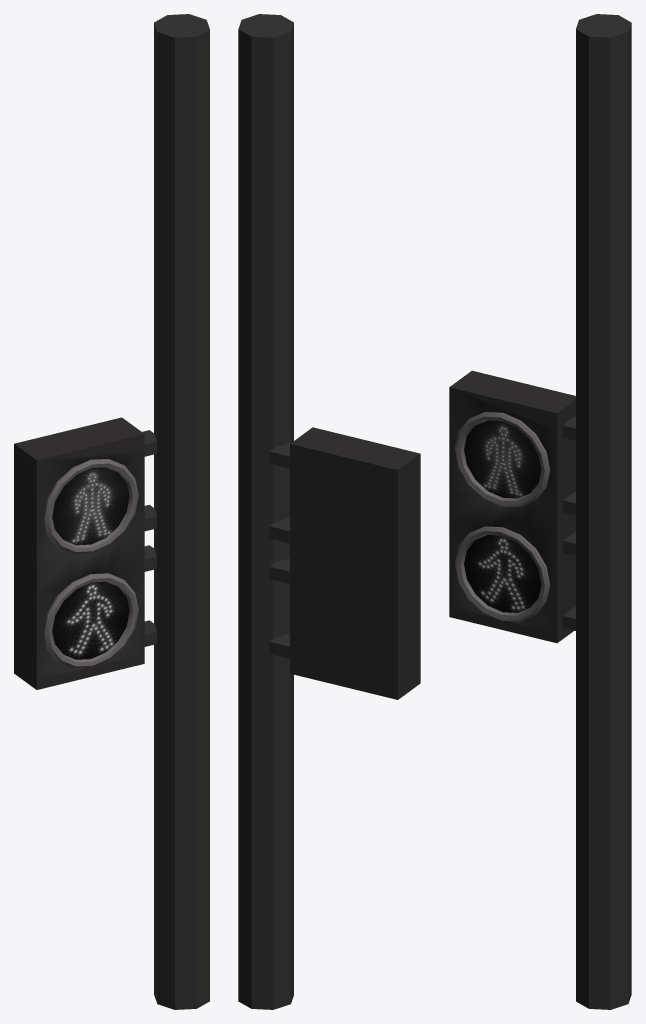
Rendered from PedestrianLight1withpole.fbx.
The picture shows the model from 3 angles, left to right: view 1: azimuth 30°, elevation 25°; view 2: azimuth 150°, elevation 25°; view 3: azimuth 330°, elevation 25°; orthographic projection.
Parts seen in each view (by area): view 1: pCube17, PedestrianLight_body, RedLight_Not_Ready, Greenlightnot_ready, Rings1, Rings; view 2: pCube17, PedestrianLight_body; view 3: pCube17, PedestrianLight_body, RedLight_Not_Ready, Greenlightnot_ready, Rings1, Rings.
Boxes of the visible parts, x1,y1,x2,y2 form: pCube17: (142, 14, 209, 1009); PedestrianLight_body: (14, 417, 144, 689); RedLight_Not_Ready: (52, 467, 129, 545); Greenlightnot_ready: (52, 581, 129, 659); Rings1: (43, 573, 138, 668); Rings: (43, 459, 138, 553); pCube17: (238, 14, 293, 1009); PedestrianLight_body: (290, 427, 420, 699); pCube17: (563, 14, 631, 1009); PedestrianLight_body: (449, 370, 575, 643); RedLight_Not_Ready: (464, 420, 541, 498); Greenlightnot_ready: (464, 535, 541, 612); Rings1: (455, 526, 550, 621); Rings: (454, 412, 550, 507).
Size of the model in its own units: 2.72 by 14.47 by 0.8856.
7 materials, 6 textured.
